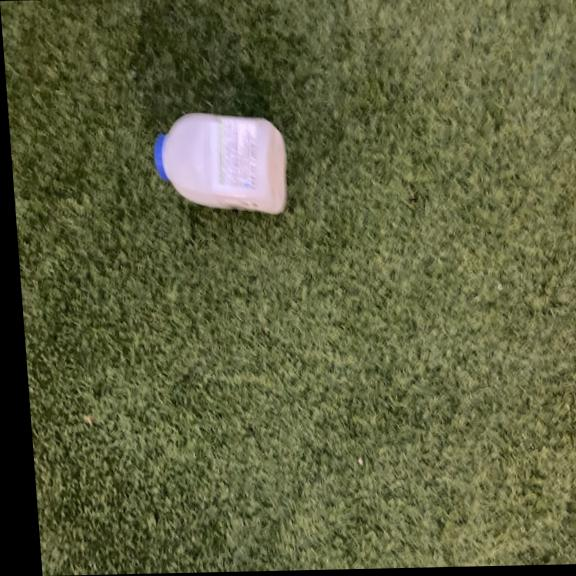Plastik: (150, 103, 297, 218)
